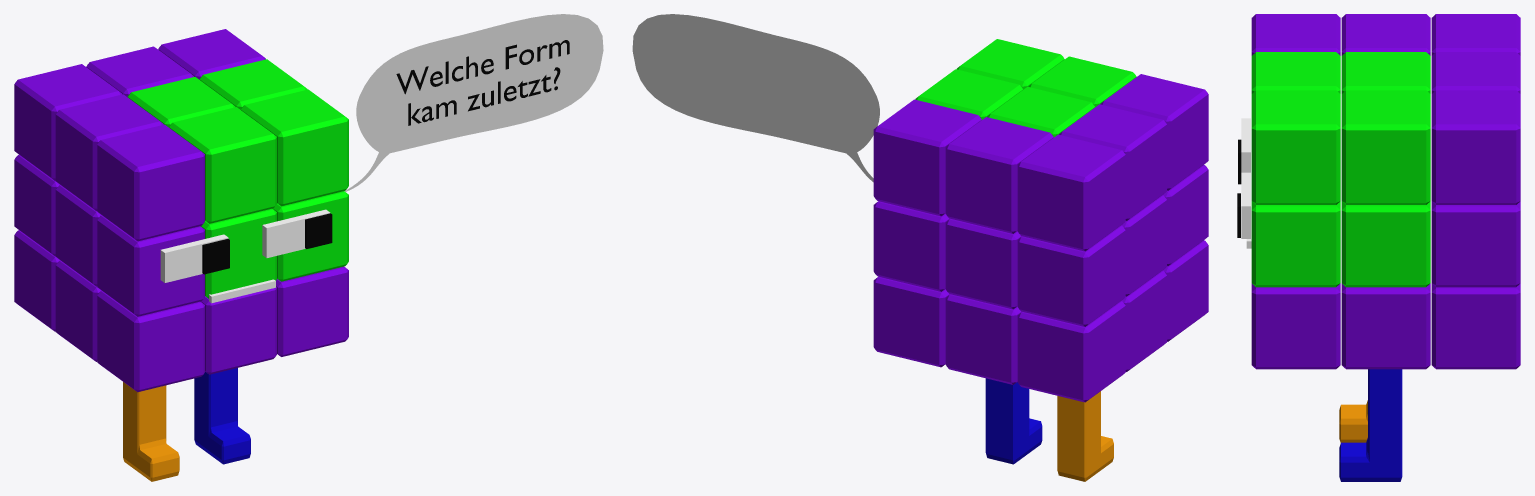
Rendered from tetris01.fbx.
3 views of the same model, side by side, from view 1: azimuth 30°, elevation 25°; view 2: azimuth 150°, elevation 25°; view 3: azimuth 270°, elevation 25° (orthographic). The views are drawn at different scales.
Parts seen in each view (by area): view 1: Body, BézierCircle, Legs, BlueLeg, Text, Eye.001, Eye.002, Pupil.002, Pupil.001, Mouth; view 2: Body, BézierCircle, Legs, BlueLeg; view 3: Body, BlueLeg, Legs, Eye.002, Eye.001.
Part boxes in pixels (bbox=[...]): Body: bbox=[14, 29, 348, 392]; BézierCircle: bbox=[344, 14, 603, 191]; Legs: bbox=[123, 382, 179, 481]; BlueLeg: bbox=[194, 368, 250, 464]; Text: bbox=[396, 40, 569, 125]; Eye.001: bbox=[160, 234, 228, 282]; Eye.002: bbox=[262, 209, 330, 257]; Pupil.002: bbox=[305, 213, 332, 248]; Pupil.001: bbox=[202, 239, 229, 274]; Mouth: bbox=[209, 279, 275, 303]; Body: bbox=[873, 39, 1208, 402]; BézierCircle: bbox=[632, 14, 879, 182]; Legs: bbox=[1057, 391, 1113, 481]; BlueLeg: bbox=[985, 378, 1042, 464]; Body: bbox=[1251, 14, 1520, 369]; BlueLeg: bbox=[1339, 369, 1402, 481]; Legs: bbox=[1339, 400, 1367, 442]; Eye.002: bbox=[1241, 172, 1250, 238]; Eye.001: bbox=[1241, 118, 1250, 172].
Bounding box in the file's own units: 1471 × 965 × 636.
